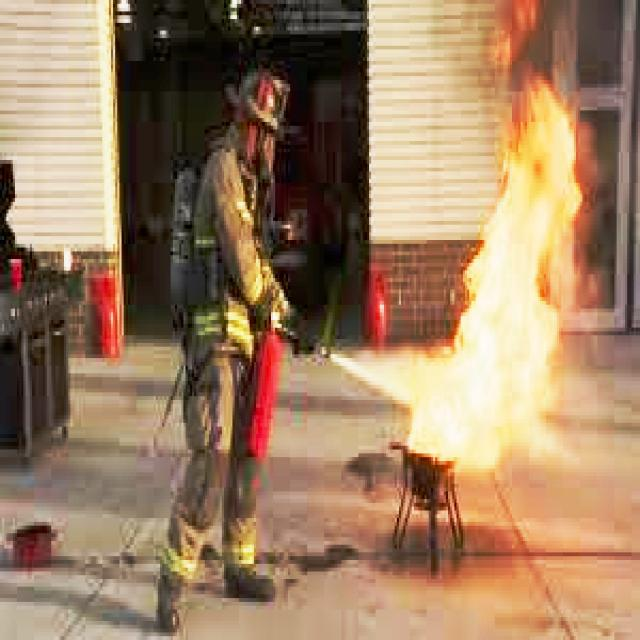api: (402, 32, 583, 508)
